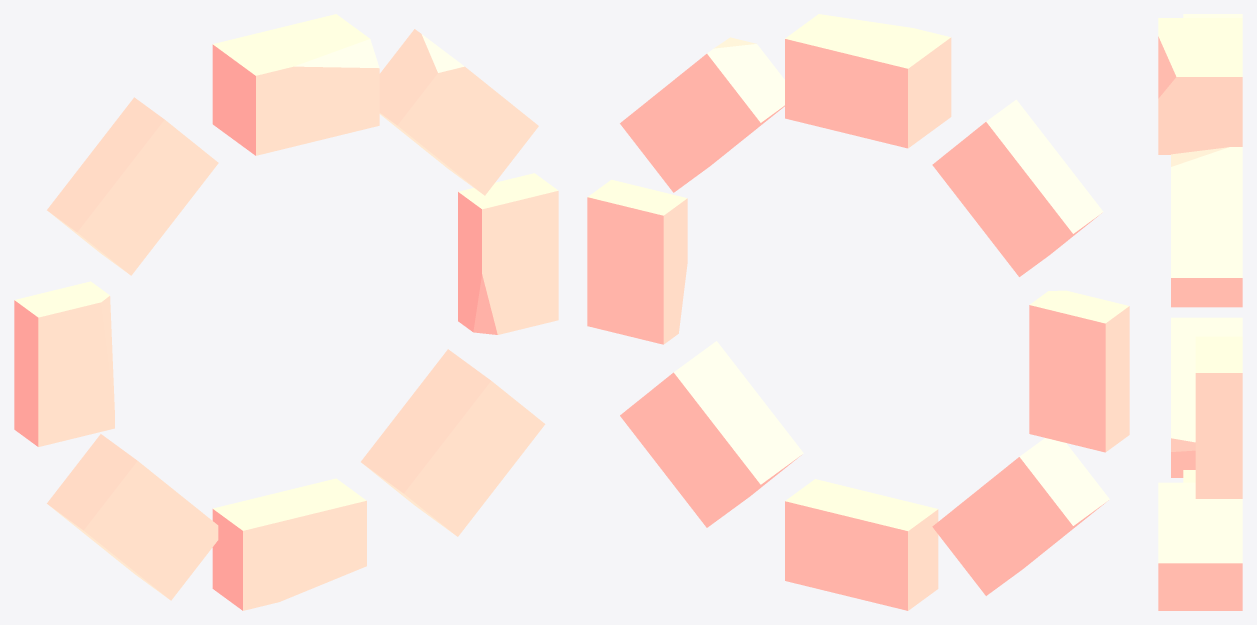
Rendered from end.glb.
3 views of the same model, side by side, from view 1: azimuth 30°, elevation 25°; view 2: azimuth 150°, elevation 25°; view 3: azimuth 270°, elevation 25° (orthographic). The views are drawn at different scales.
Parts seen in each view (by area): view 1: campfire_bricks; view 2: campfire_bricks; view 3: campfire_bricks.
Boxes of the visible parts, box(x1,y1,x2,y2) form: campfire_bricks: box(14, 14, 558, 610); campfire_bricks: box(587, 14, 1129, 610); campfire_bricks: box(1158, 14, 1242, 610).
Size of the model in its own units: 23.46 by 23.46 by 3.38.
